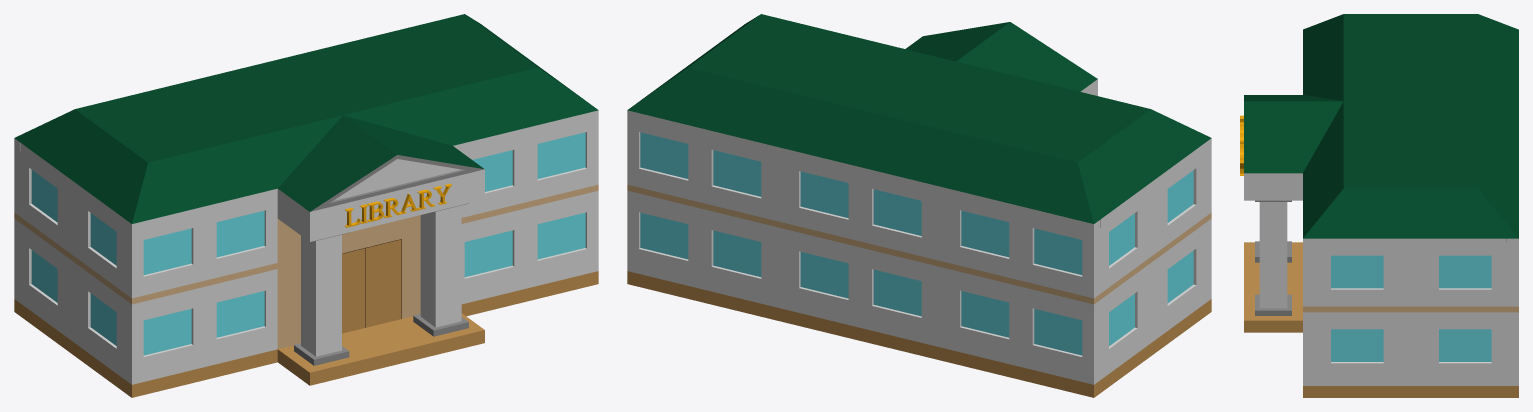
Rendered from Library.fbx.
3 renders of one model, left to right at view 1: azimuth 30°, elevation 25°; view 2: azimuth 150°, elevation 25°; view 3: azimuth 270°, elevation 25°, orthographic. The views are drawn at different scales.
Parts seen in each view (by area): view 1: Model; view 2: Model; view 3: Model.
Boxes of the visible parts, x1=… form: Model: x1=14, y1=14, x2=598, y2=397; Model: x1=627, y1=14, x2=1211, y2=397; Model: x1=1240, y1=14, x2=1518, y2=397.
Size of the model in its own units: 334 by 143 by 188.
